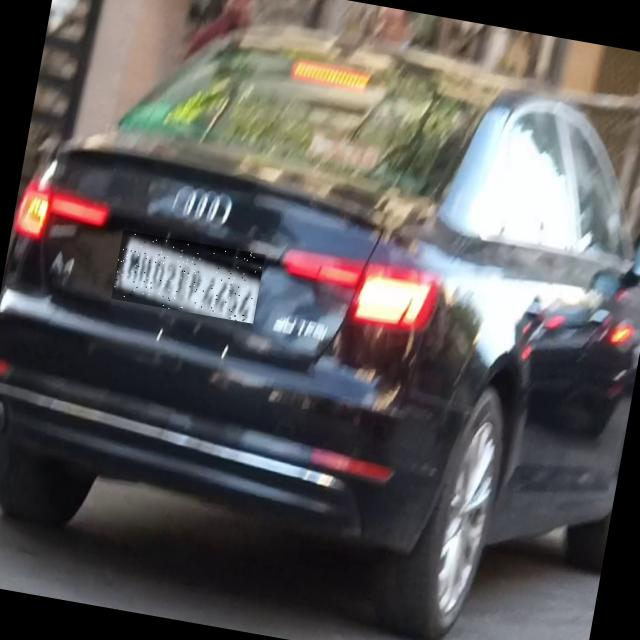Plate: (112, 231, 266, 325)
